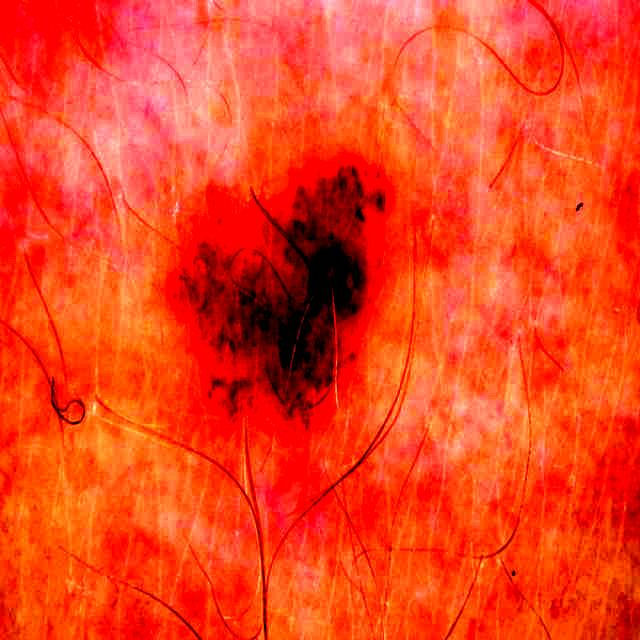NV: (180, 164, 387, 423)
